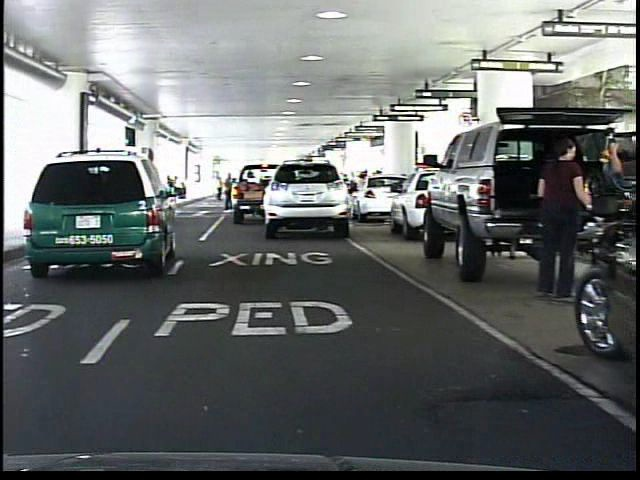person: (522, 136, 589, 306)
